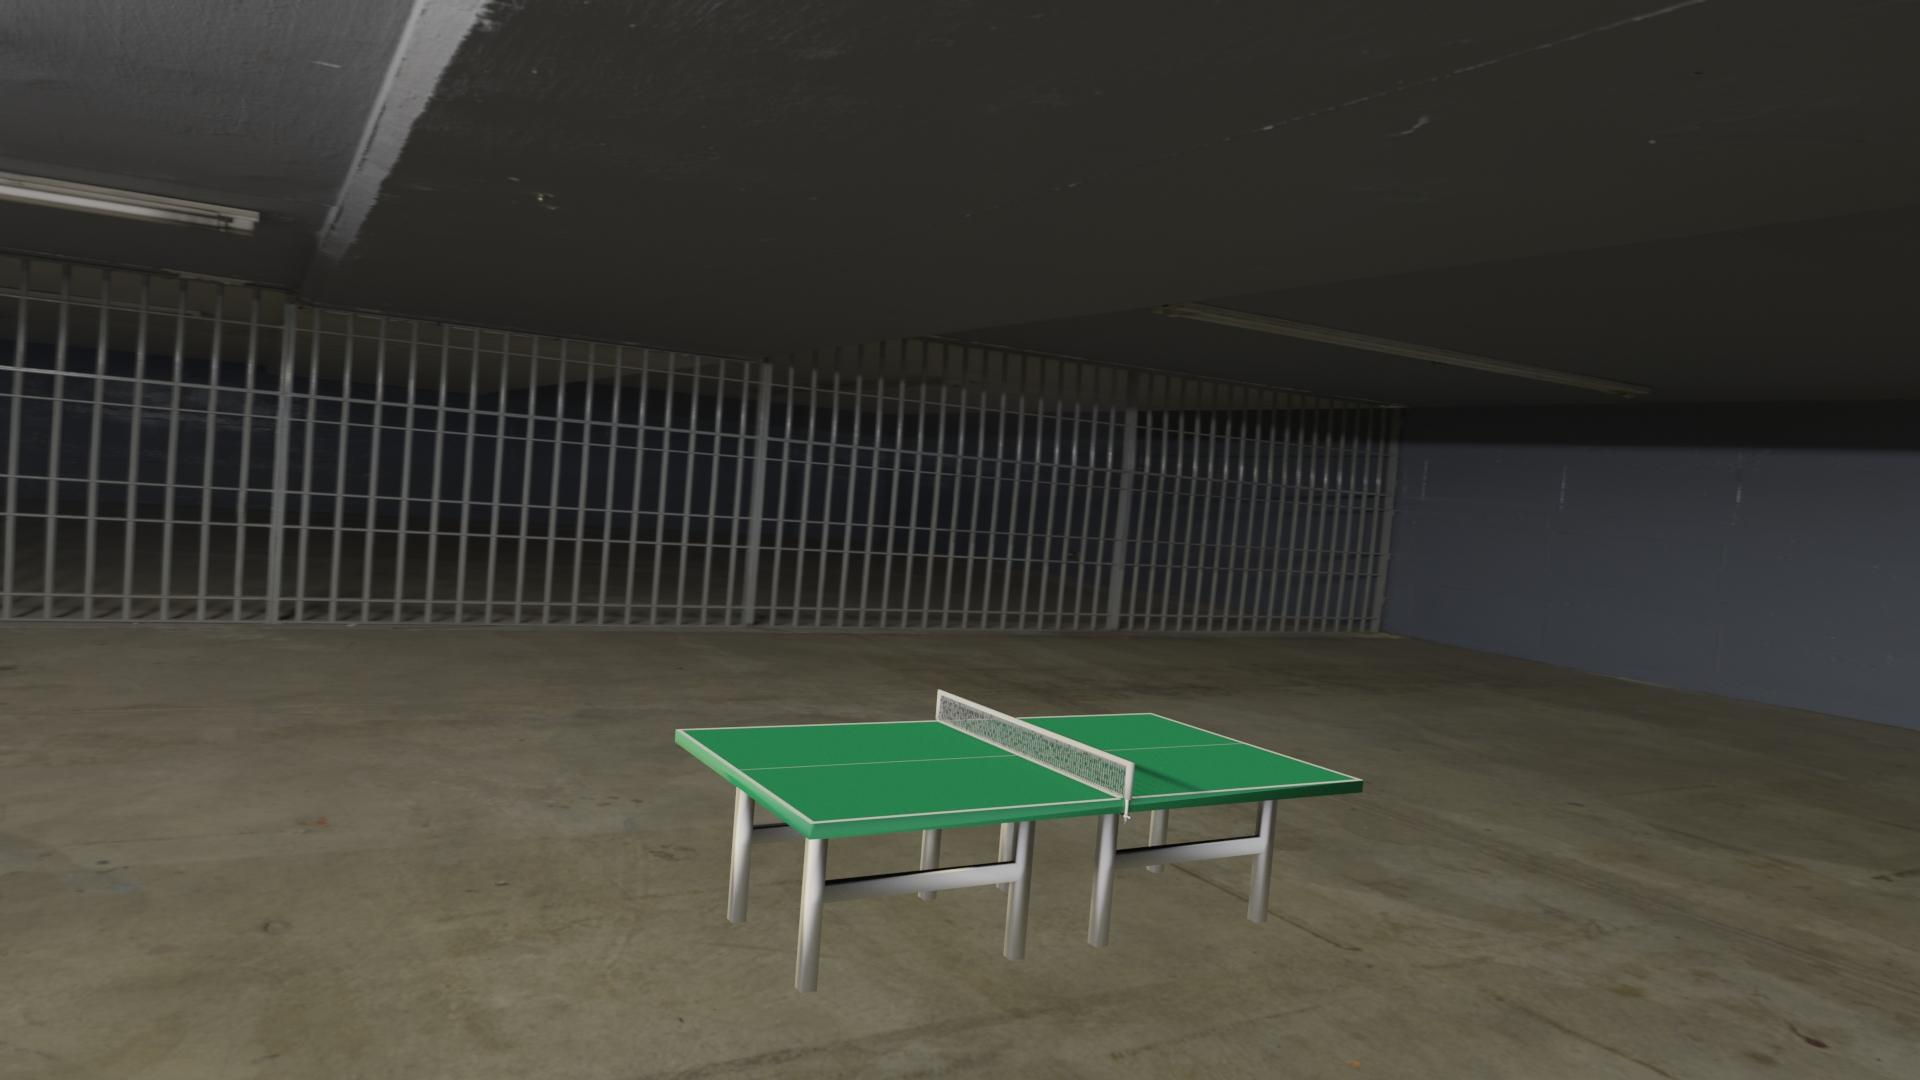table: (682, 713, 1357, 822)
